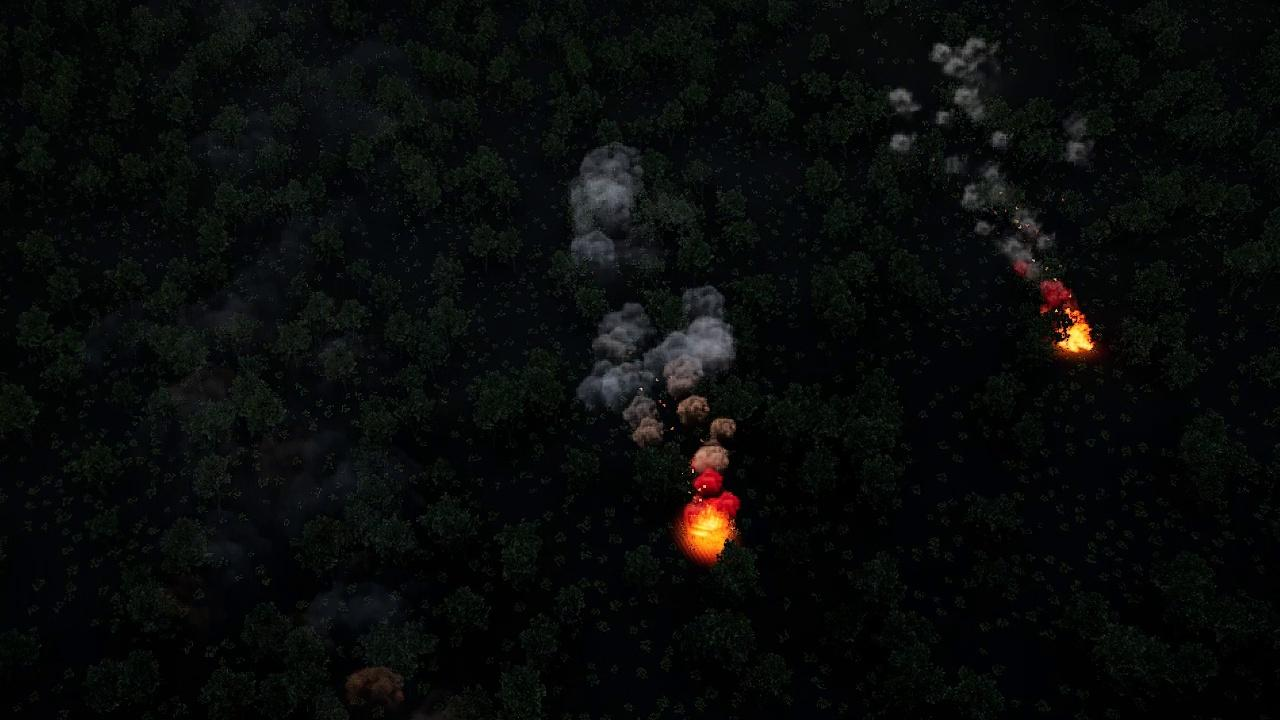fire: (682, 495, 736, 555), (345, 665, 405, 704), (1056, 320, 1093, 356)
smoke: (873, 38, 1066, 313), (569, 287, 735, 477), (564, 146, 648, 281), (278, 423, 348, 513), (303, 583, 400, 643), (1061, 112, 1093, 166), (400, 708, 460, 720)
